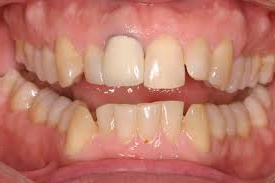Tooth Discoloration: (105, 27, 151, 57)
